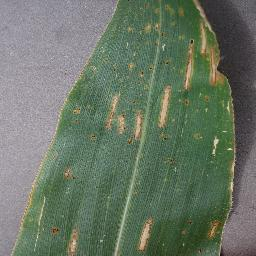Gray_Leaf_Spot: (196, 13, 230, 85), (226, 88, 238, 210), (100, 88, 128, 135), (131, 20, 169, 48), (133, 214, 156, 256), (182, 35, 196, 96), (158, 82, 175, 131), (205, 213, 226, 248), (150, 3, 186, 21), (34, 195, 46, 248), (63, 223, 80, 256), (124, 61, 154, 79), (132, 104, 146, 141), (204, 132, 223, 159), (9, 223, 24, 256), (179, 214, 196, 237), (78, 60, 97, 78), (24, 183, 33, 221), (154, 55, 171, 70), (48, 220, 60, 238), (192, 0, 208, 12), (64, 163, 75, 179), (167, 155, 182, 166), (71, 108, 84, 118), (159, 135, 172, 145), (180, 99, 191, 110), (193, 131, 203, 142), (86, 132, 98, 141), (125, 138, 134, 147), (202, 95, 213, 102)
